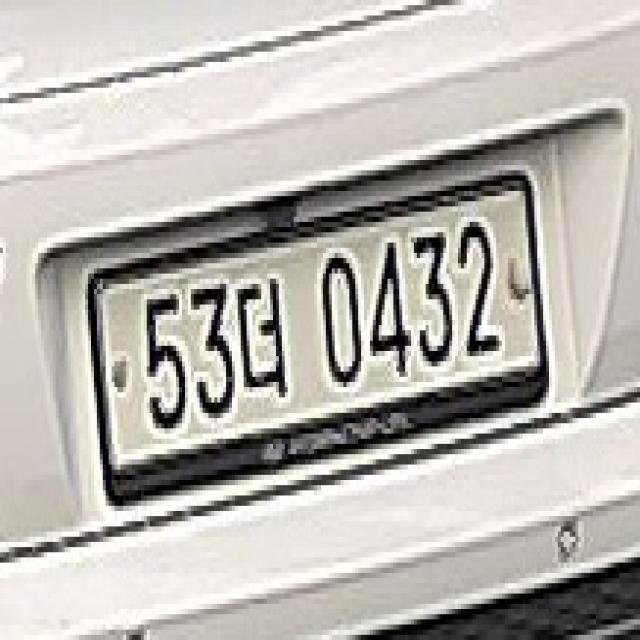0: (311, 253, 367, 397)
2: (452, 191, 508, 361)
3: (188, 268, 244, 428), (411, 222, 455, 377)
4: (361, 217, 411, 387)
5: (135, 263, 194, 434)
deo: (229, 274, 299, 402)
license_plate: (88, 144, 540, 526)
